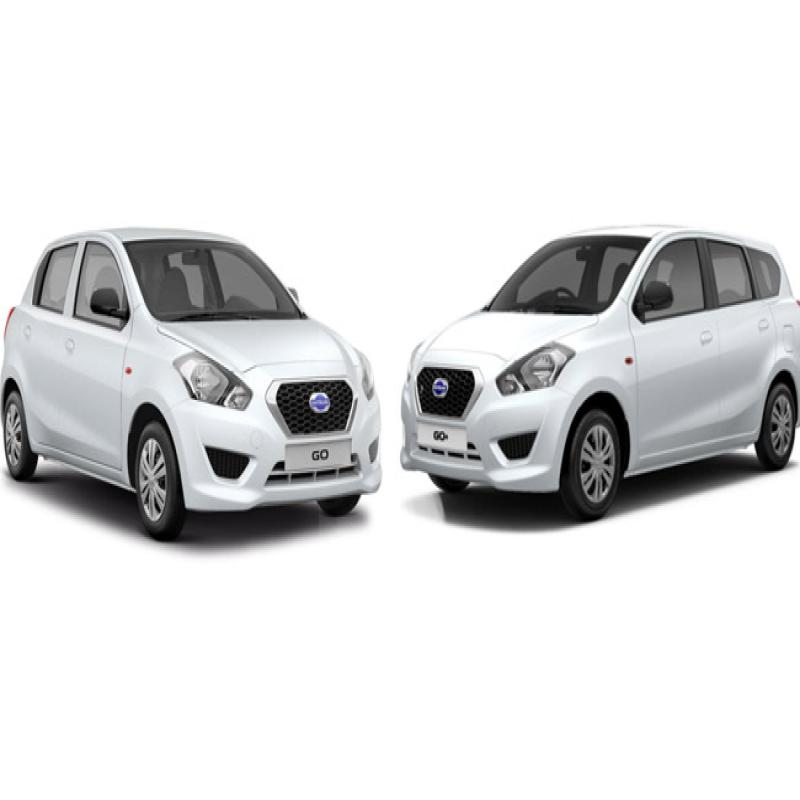car: (385, 215, 800, 535), (2, 190, 381, 540)
